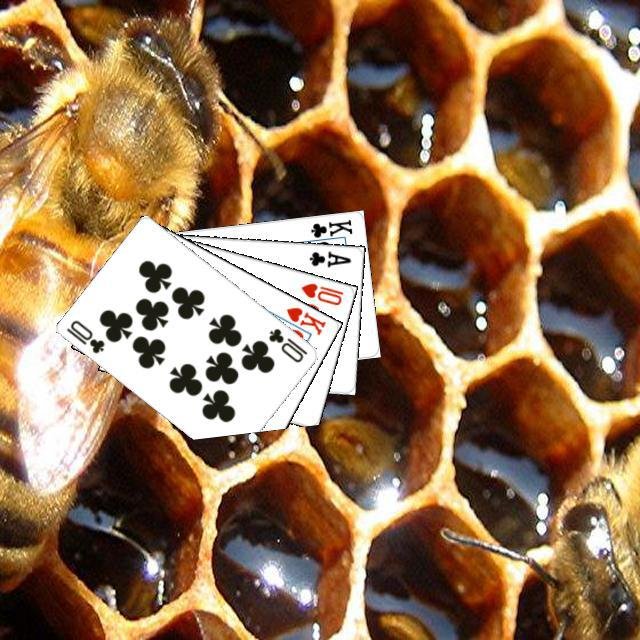10c: (264, 323, 309, 364), (61, 315, 106, 355)
10h: (296, 278, 345, 307)
Ac: (304, 246, 353, 269)
Kc: (302, 214, 354, 244)
Kh: (273, 302, 327, 339)
